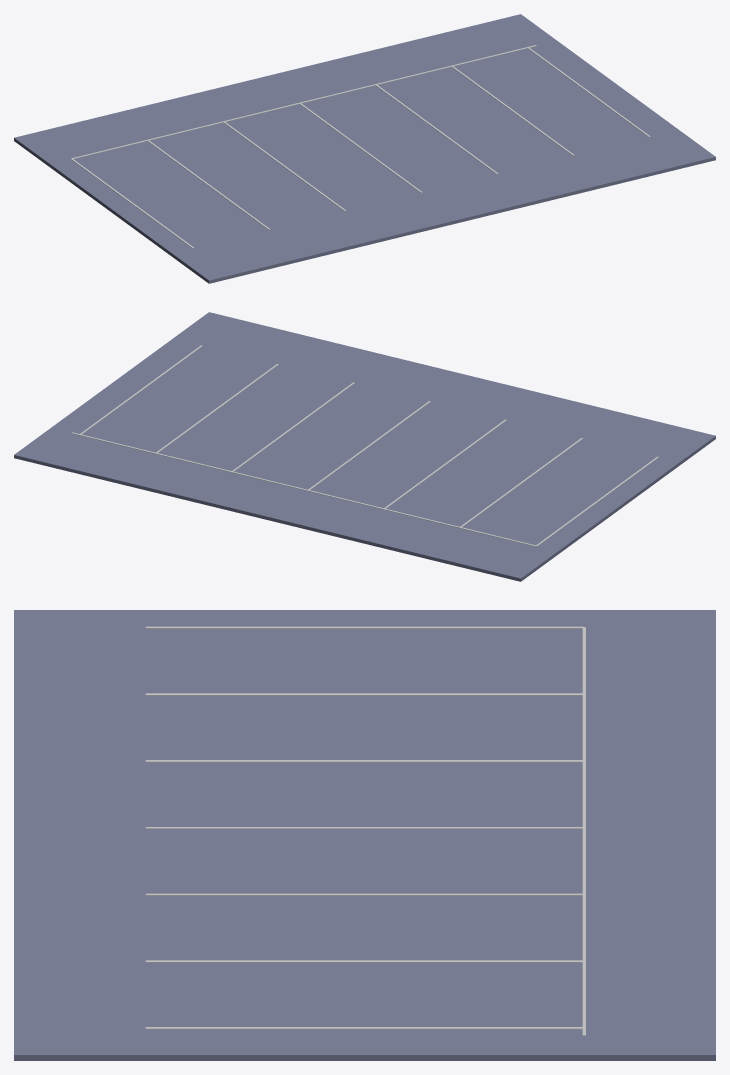
File: 18_roads_plazas-07.glb
3 renders of one model, top to bottom at view 1: azimuth 30°, elevation 25°; view 2: azimuth 150°, elevation 25°; view 3: azimuth 270°, elevation 25°, orthographic. The views are drawn at different scales.
Size of the model in its own units: 24 by 0.18 by 16.
